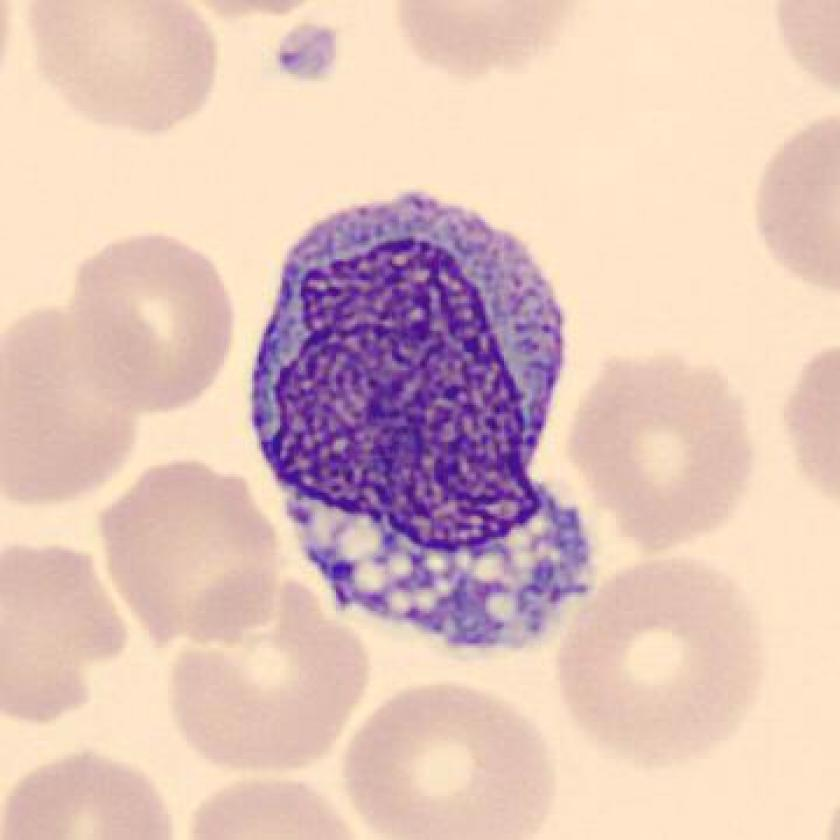monocyte: (239, 170, 617, 663)
